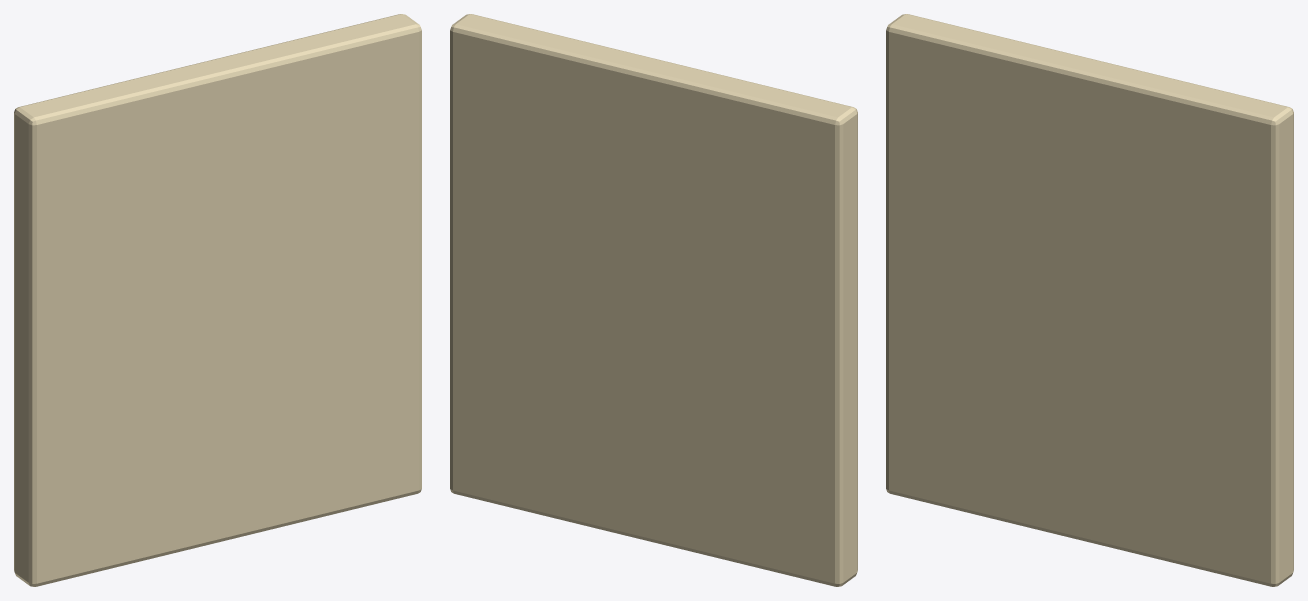
The model's file is wall_plaster_2m.glb.
3 views of the same model, side by side, from view 1: azimuth 30°, elevation 25°; view 2: azimuth 150°, elevation 25°; view 3: azimuth 330°, elevation 25° (orthographic).
Visible parts, largest first — view 1: wall_plaster_2m; view 2: wall_plaster_2m; view 3: wall_plaster_2m.
Part boxes in pixels (bbox=[...]): wall_plaster_2m: bbox=[14, 14, 421, 586]; wall_plaster_2m: bbox=[450, 14, 857, 586]; wall_plaster_2m: bbox=[886, 14, 1293, 586].
Size of the model in its own units: 1.82 by 2.08 by 0.16.
